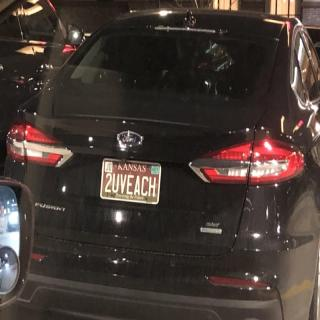license: (100, 159, 163, 205)
